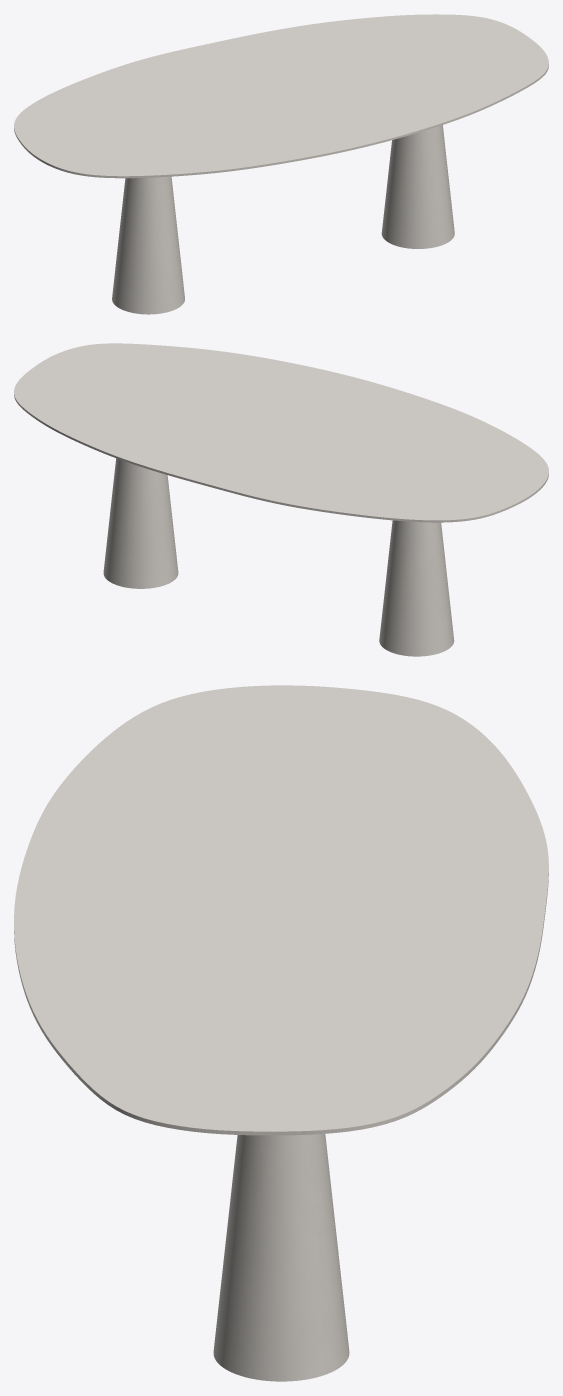
Rendered from pearlwhite_danish_facet_pebble.glb.
3 views of the same model, one above another, from view 1: azimuth 30°, elevation 25°; view 2: azimuth 150°, elevation 25°; view 3: azimuth 270°, elevation 25° (orthographic). The views are drawn at different scales.
Visible parts, largest first — view 1: facet_danish, pebble; view 2: facet_danish, pebble; view 3: facet_danish, pebble.
Part boxes in pixels (box(x1,y1,x2,y2)): facet_danish: box(14, 14, 548, 178); pebble: box(112, 125, 454, 314); facet_danish: box(14, 343, 548, 522); pebble: box(103, 458, 454, 656); facet_danish: box(14, 685, 548, 1135); pebble: box(213, 1134, 349, 1381).
Size of the model in its own units: 7.5 by 2.5 by 3.8.
Materials: 1 (1 with a texture image).
